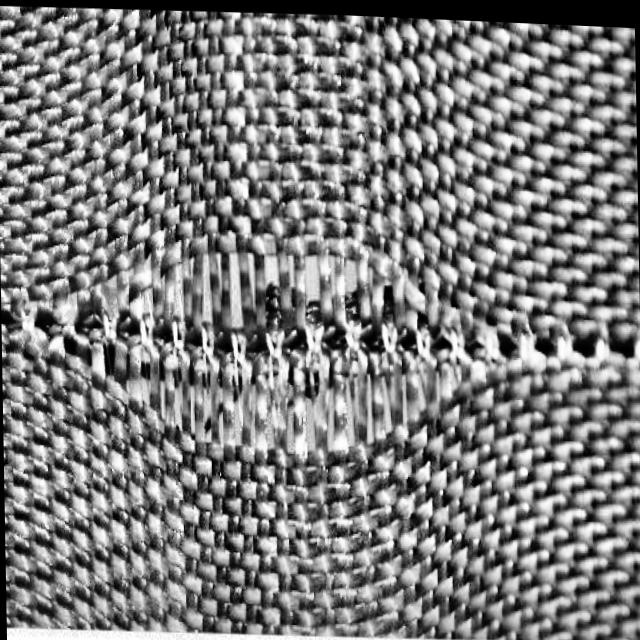seam: (13, 195, 549, 501)
